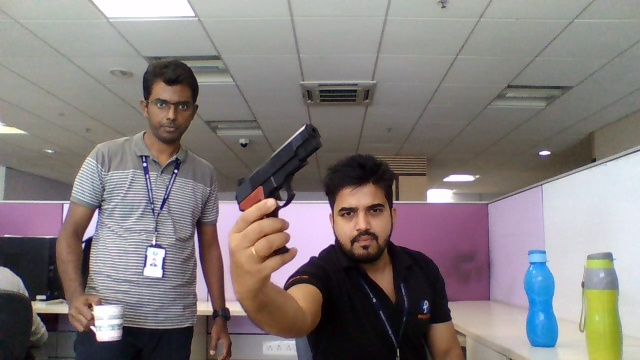gun: (233, 123, 325, 213)
